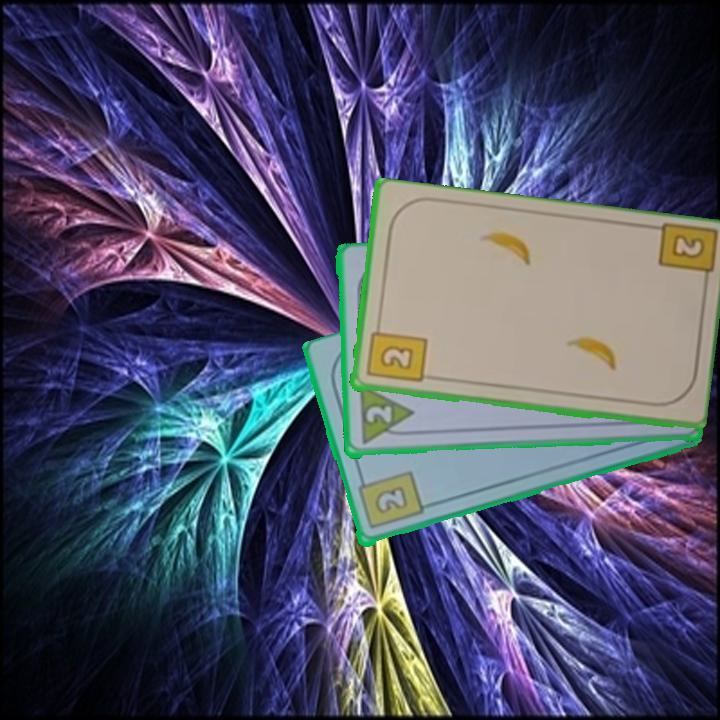2b: (354, 468, 426, 533), (363, 319, 429, 386), (654, 222, 716, 293)
2p: (355, 384, 417, 448)
